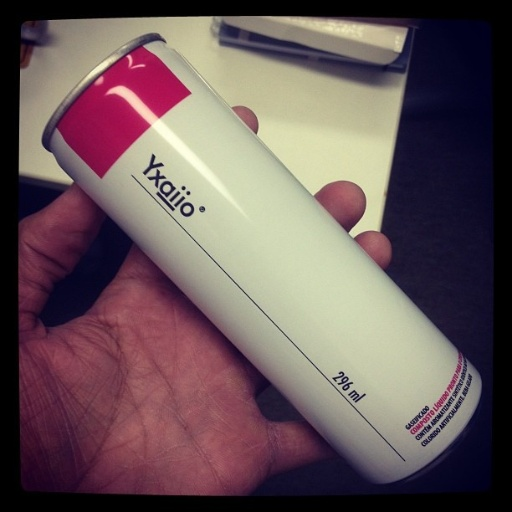hand: (12, 106, 348, 499)
